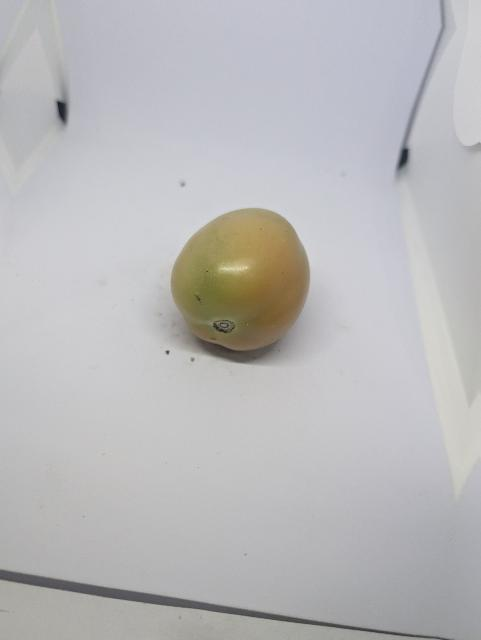breaker: (167, 204, 316, 358)
